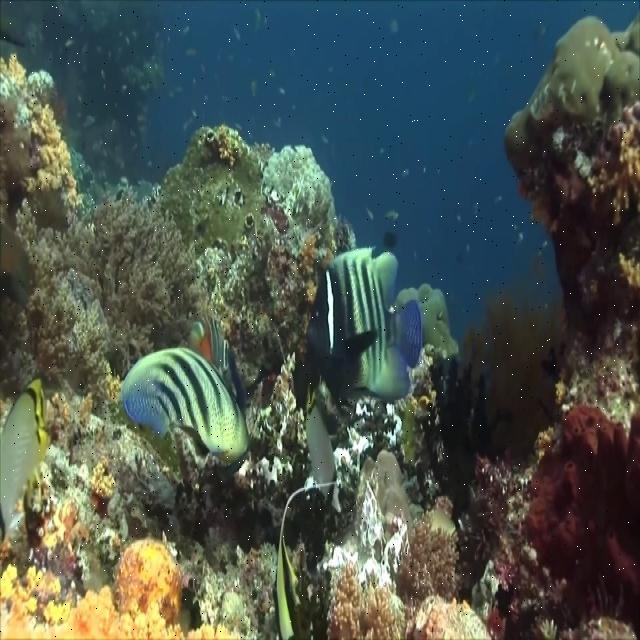fish: (307, 245, 423, 404), (120, 344, 252, 463), (272, 480, 346, 639), (0, 378, 50, 519), (304, 385, 347, 483), (229, 349, 277, 406), (200, 318, 230, 372), (318, 483, 347, 515)
reefs: (1, 182, 208, 458), (470, 402, 639, 639), (158, 124, 291, 384), (316, 448, 492, 639), (0, 499, 241, 638), (503, 12, 639, 178), (260, 145, 356, 364), (0, 53, 87, 275), (396, 283, 459, 364)
